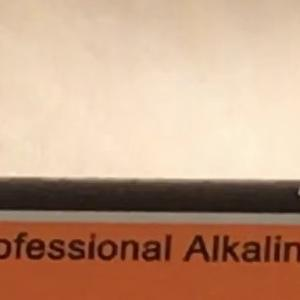ALK: (173, 225, 241, 272)
